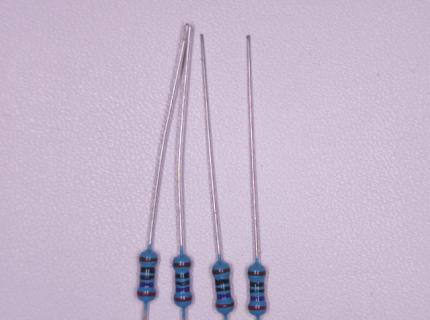Black band: (175, 271, 190, 279), (140, 266, 155, 273), (215, 278, 230, 285), (175, 280, 190, 286), (140, 275, 154, 280), (216, 286, 230, 291), (250, 281, 264, 286), (250, 289, 265, 293)
Brown band: (212, 267, 230, 275), (139, 256, 158, 262), (173, 261, 191, 267), (248, 270, 266, 276)
Red band: (137, 290, 156, 297), (174, 295, 193, 302), (215, 302, 234, 308), (248, 305, 267, 311)
Violet band: (217, 292, 232, 300), (139, 281, 154, 287), (251, 295, 265, 301), (177, 286, 190, 292)
